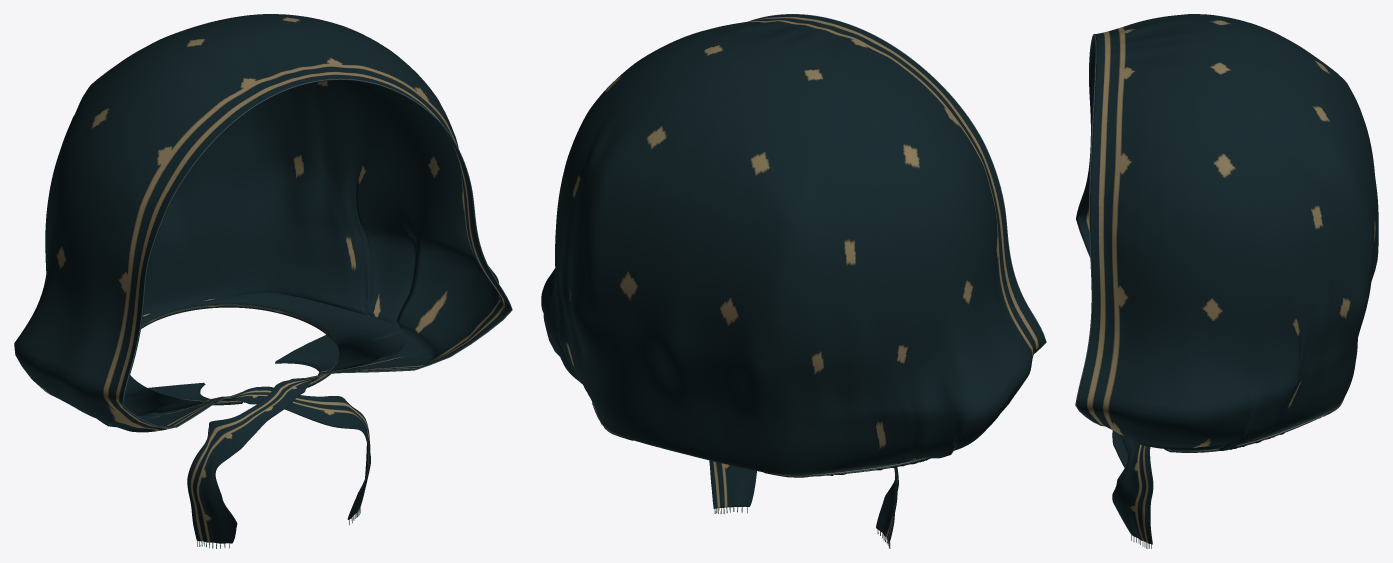
Rendered from Feminine-box-braids-triangle-pashmina249-headgear.glb.
The picture shows the model from 3 angles, left to right: view 1: azimuth 30°, elevation 25°; view 2: azimuth 150°, elevation 25°; view 3: azimuth 270°, elevation 25°; orthographic projection. The views are drawn at different scales.
Parts seen in each view (by area): view 1: 226 headgear / Headwear / continuous woven pashmina239, 226 headgear / Headwear / face edge239; view 2: 226 headgear / Headwear / continuous woven pashmina239, 226 headgear / Headwear / face edge239; view 3: 226 headgear / Headwear / continuous woven pashmina239, 226 headgear / Headwear / face edge239.
Boxes of the visible parts, bbox=[...] form: 226 headgear / Headwear / continuous woven pashmina239: bbox=[14, 14, 511, 543]; 226 headgear / Headwear / face edge239: bbox=[122, 78, 512, 427]; 226 headgear / Headwear / continuous woven pashmina239: bbox=[541, 14, 1045, 542]; 226 headgear / Headwear / face edge239: bbox=[748, 14, 1046, 353]; 226 headgear / Headwear / continuous woven pashmina239: bbox=[1076, 14, 1378, 544]; 226 headgear / Headwear / face edge239: bbox=[1075, 34, 1103, 426].
Bounding box in the file's own units: 1.33 × 1.38 × 0.8059.
3 materials, 1 textured.
